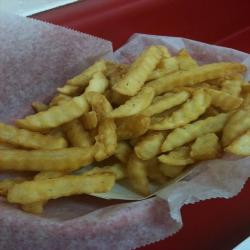fries: (4, 47, 250, 211)
